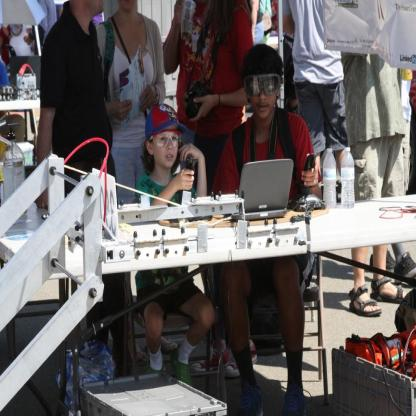board: (236, 158, 294, 221), (341, 146, 356, 208), (322, 148, 336, 207)
